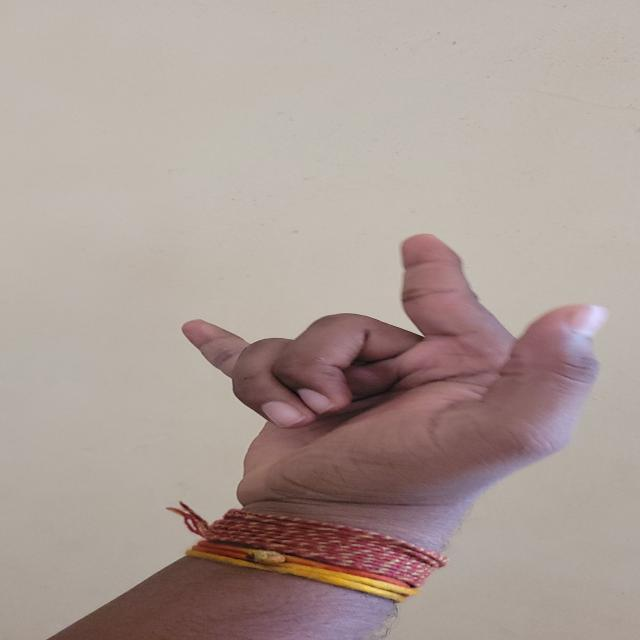i like you: (83, 228, 640, 558)
